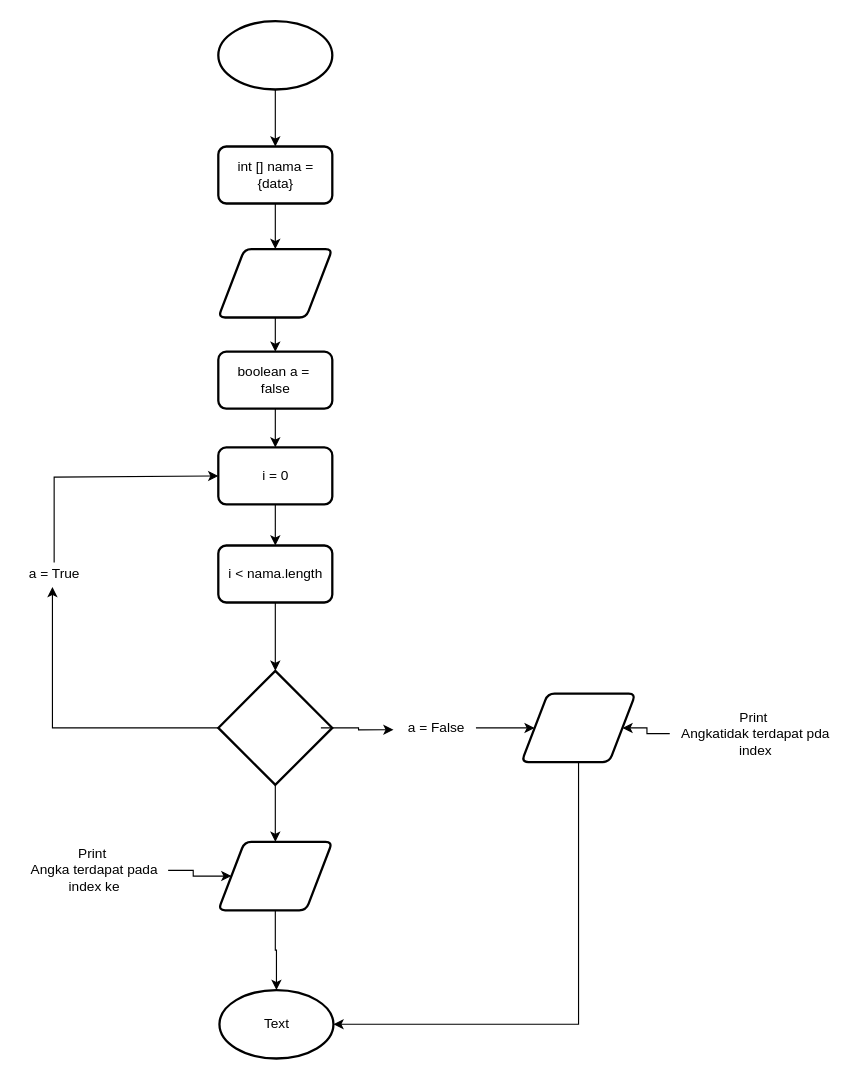
The diagram is 860 pixels wide and 1078 high, and some of its shapes have lost their labels. Here are the shapes that lost their labels. From the top down, the box of each, then its label:
(217, 19, 333, 90): Mulai
(217, 247, 333, 318): Input bilangan
(217, 669, 333, 785): angka[i] == bilangan
